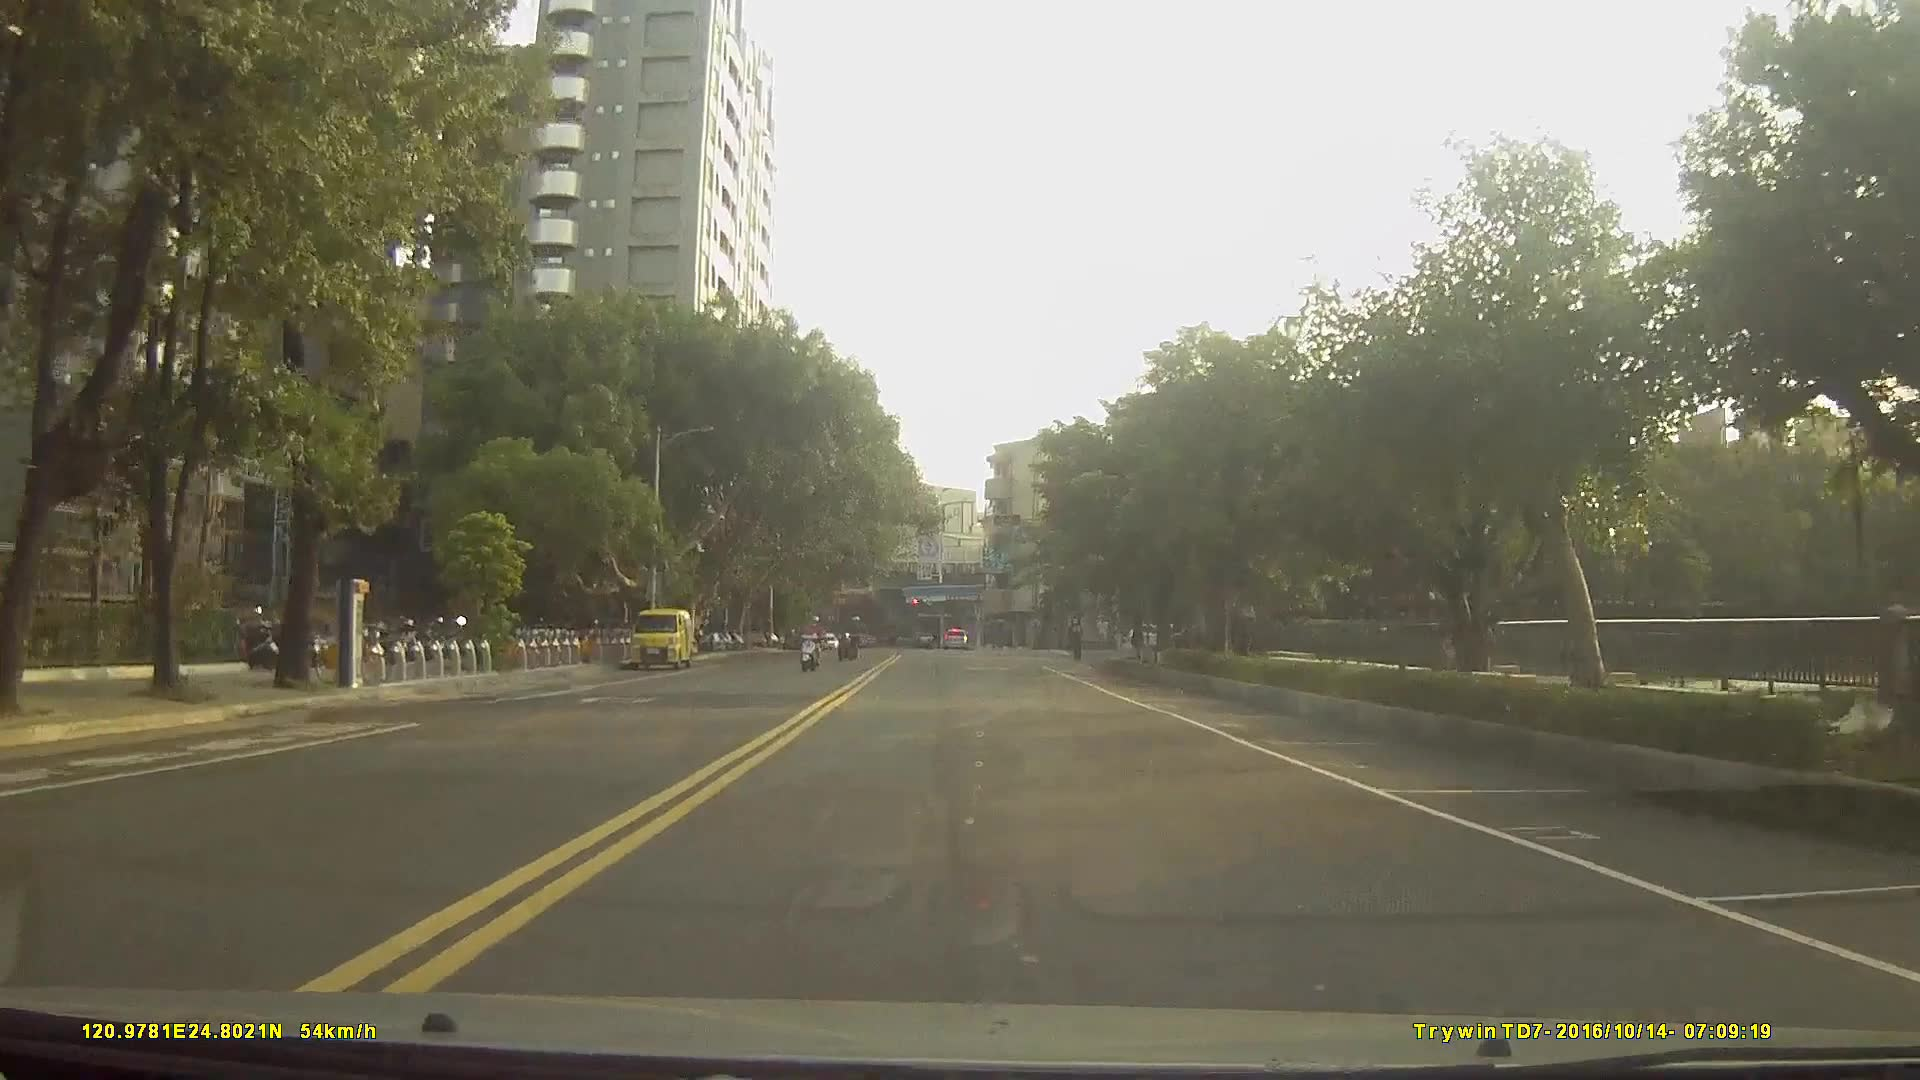pedestrian: (1093, 613, 1113, 652)
rider: (798, 617, 828, 673), (836, 615, 863, 665)
vehicle: (937, 628, 968, 652)
